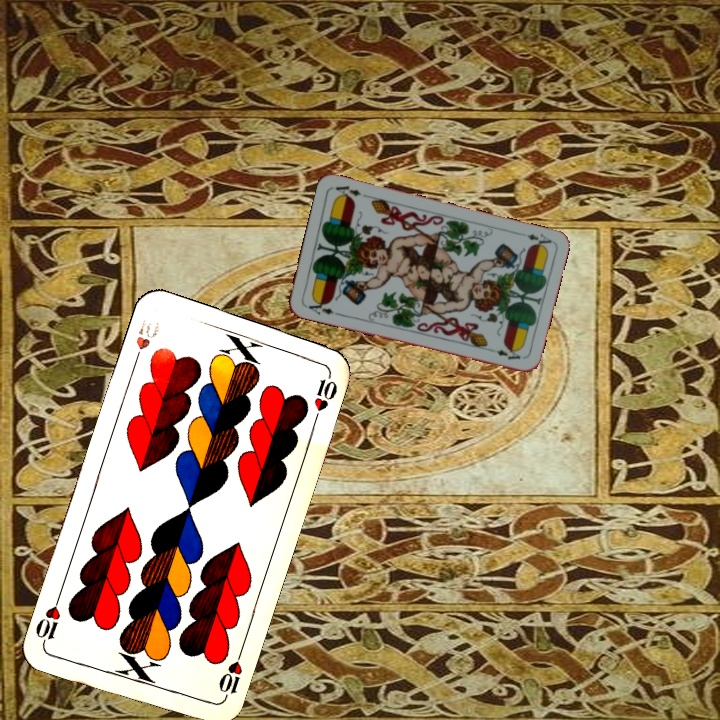EA: (514, 229, 554, 251), (301, 296, 336, 318)
H10: (129, 315, 162, 369), (214, 647, 245, 704)
